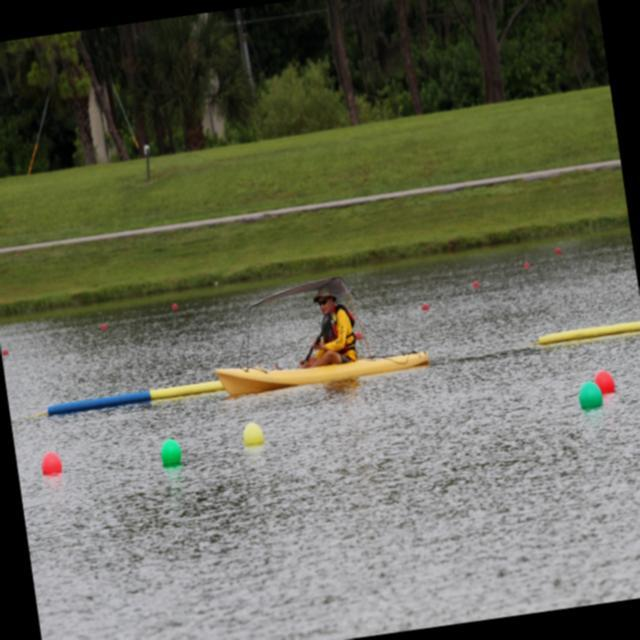buoy: (577, 378, 606, 415), (159, 434, 185, 472), (40, 444, 66, 482), (242, 418, 269, 452), (596, 366, 616, 396)
